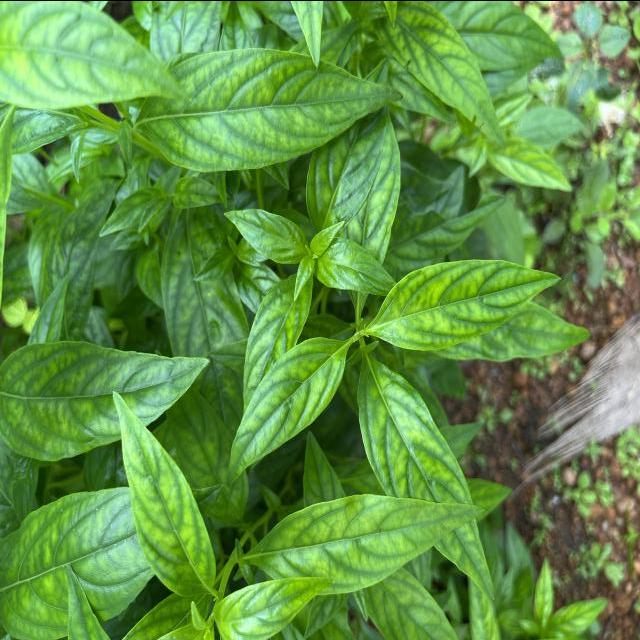Andrographis paniculata: (354, 352, 499, 604), (139, 46, 405, 170), (0, 338, 212, 462), (245, 492, 486, 596), (111, 384, 217, 597), (371, 0, 508, 149), (224, 334, 350, 488), (364, 255, 563, 352), (213, 572, 336, 640), (221, 204, 311, 266), (486, 136, 574, 193)
